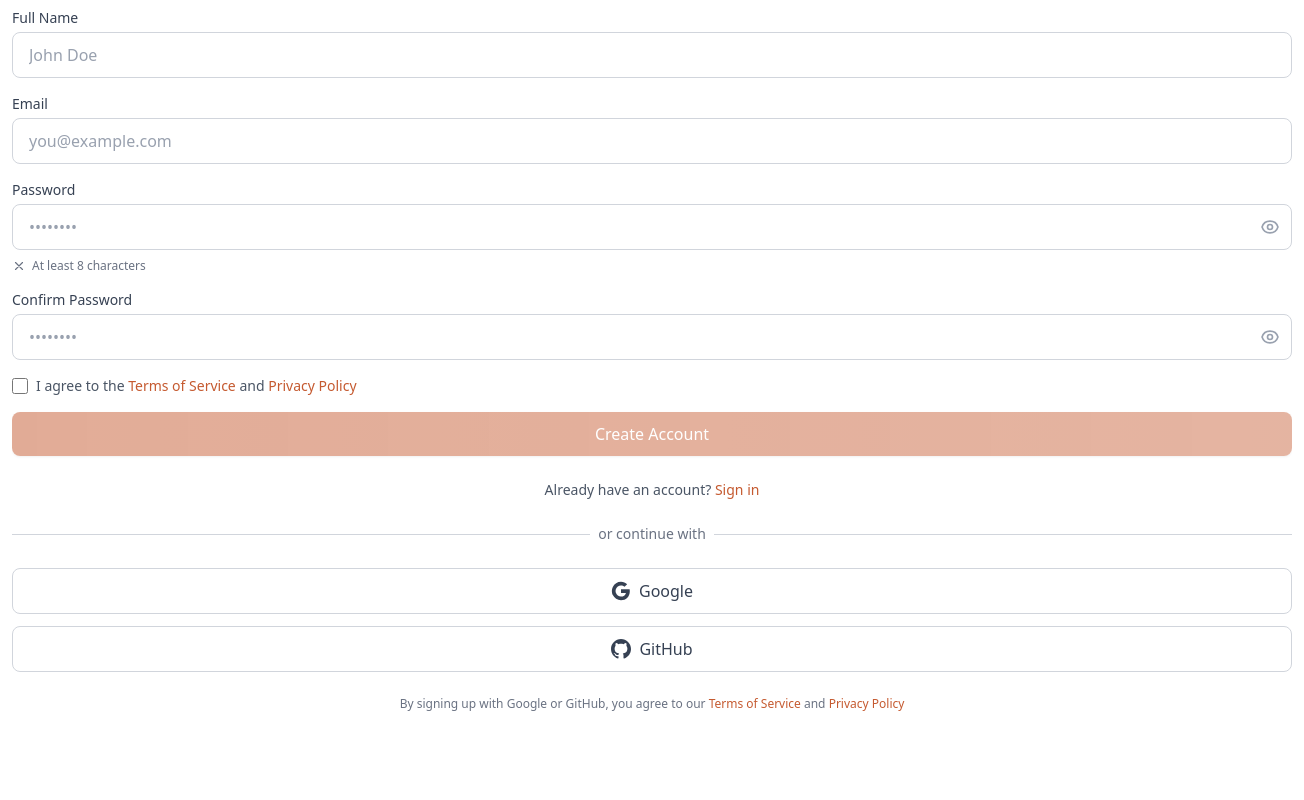
it: SignUp › shows password strength and requirements
Type "short" into the password field labelled "Password" at coordinates (652, 227), box [12,204,1292,250]
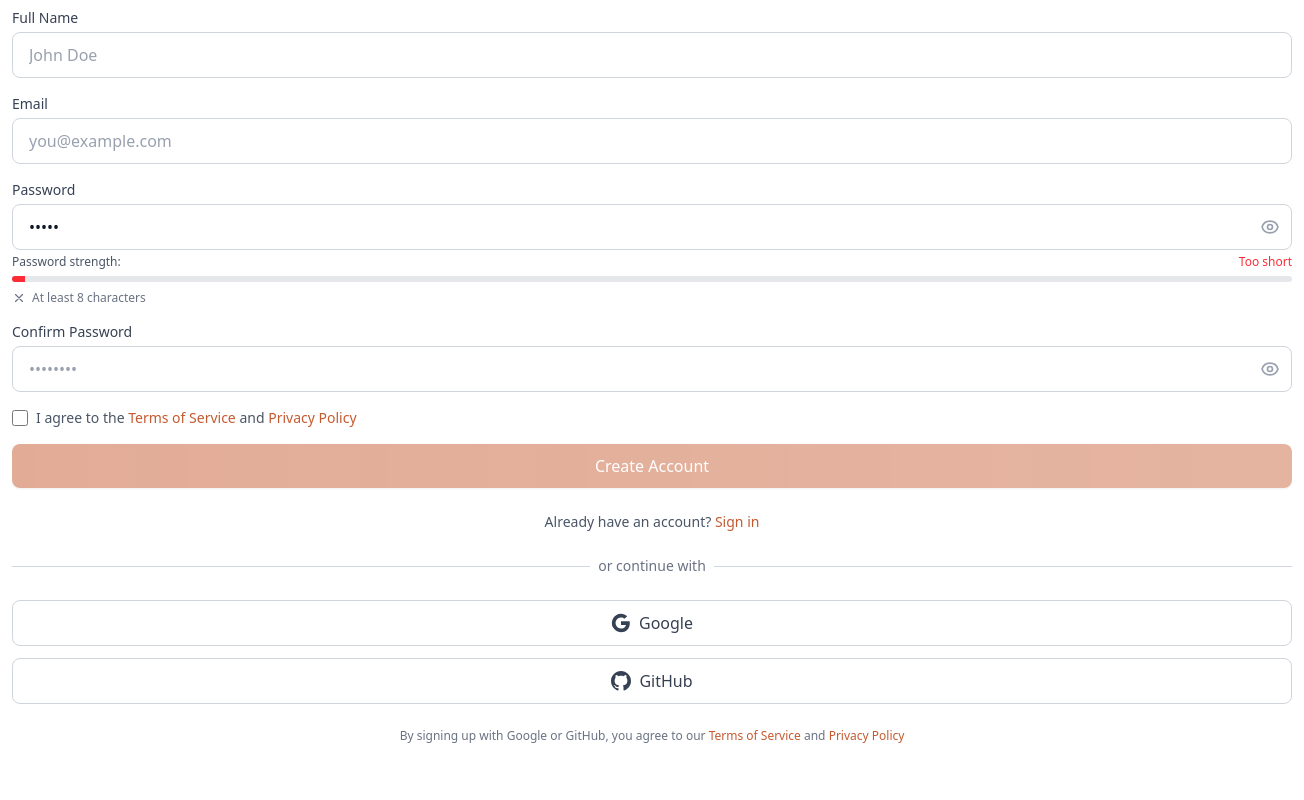
Check: the text "Too short" is shown, box [1239,254,1292,270]
Type "Longerpass1!" into the password field labelled "Password" at coordinates (652, 227), box [12,204,1292,250]
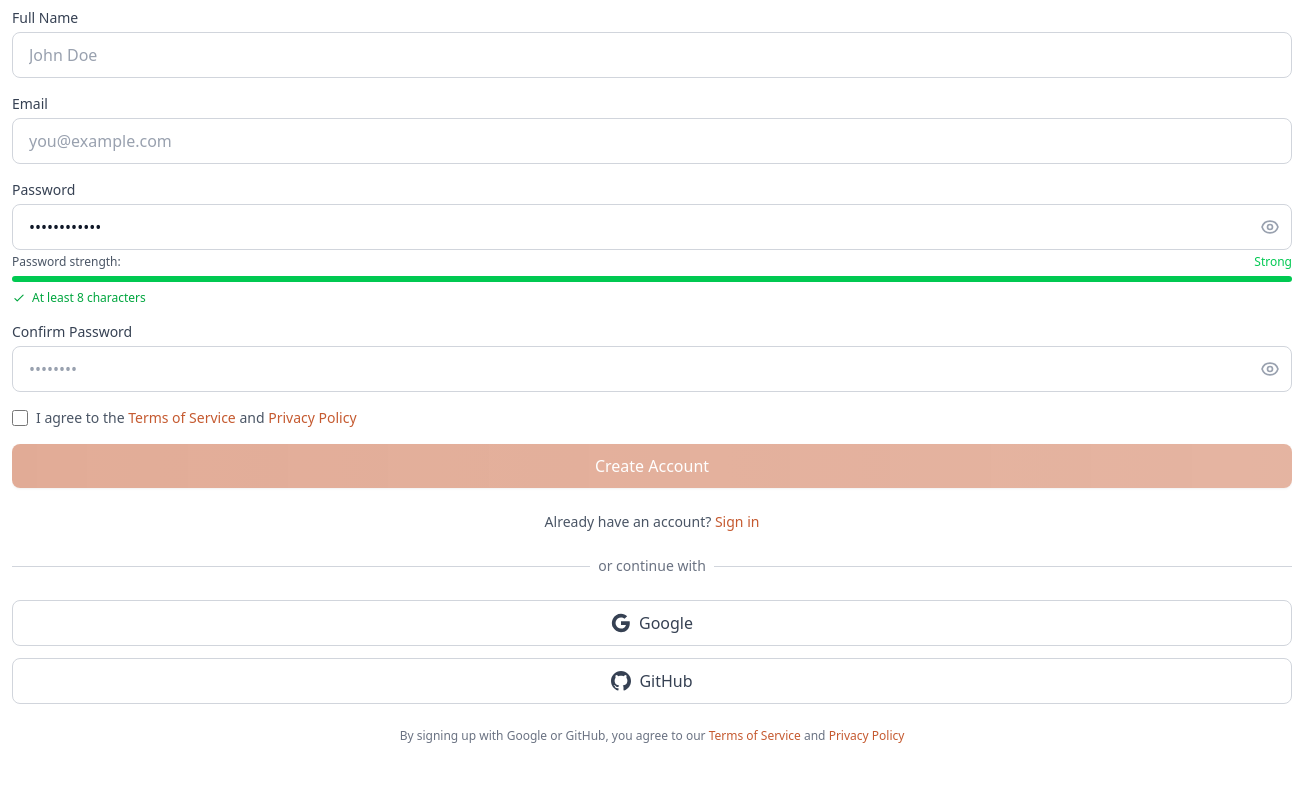
Check: the text "At least 8 characters" is shown, box [12,289,146,306]
Check: the text "Strong" is shown, box [1254,254,1292,270]
